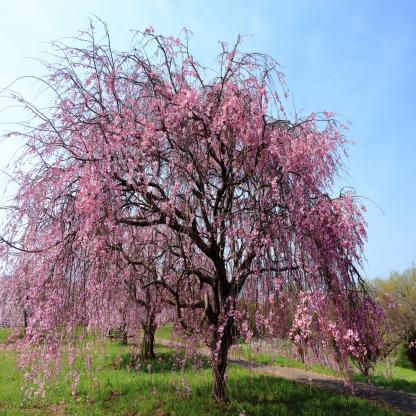ShidareZakura: (1, 13, 402, 416)
